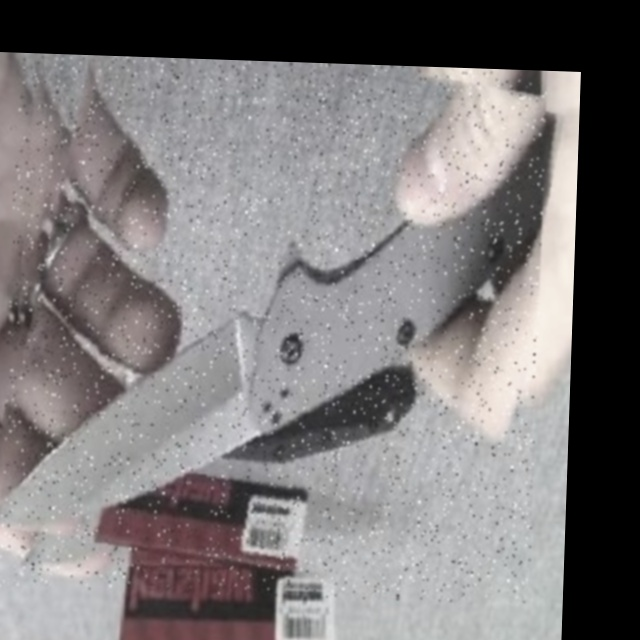Sharp-Object: (0, 53, 547, 605)
